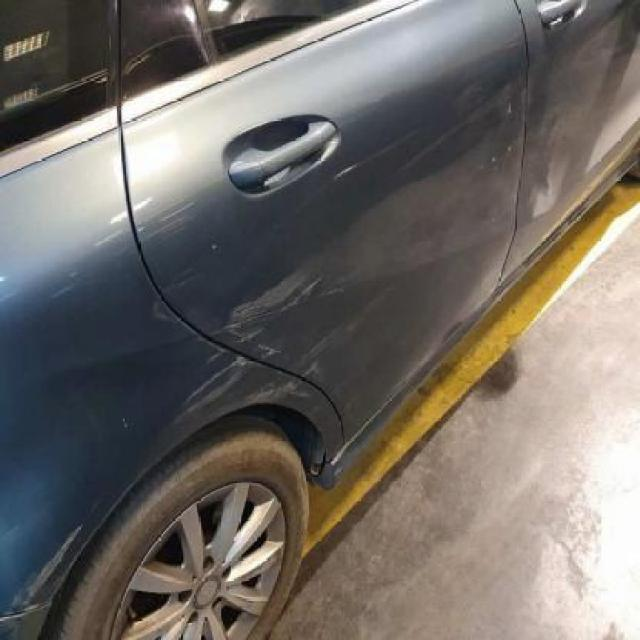car damage: (226, 265, 322, 344), (21, 524, 83, 627), (533, 132, 583, 214)
